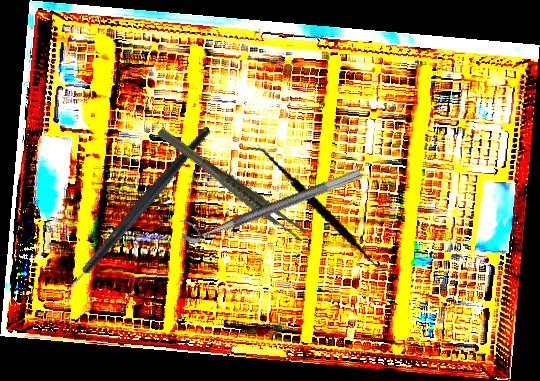Chopper: (21, 124, 254, 312)
Fixation Ring: (176, 154, 363, 247)
Spatula Surgical: (227, 144, 411, 275)
Tissue Forceps: (155, 103, 310, 265)
